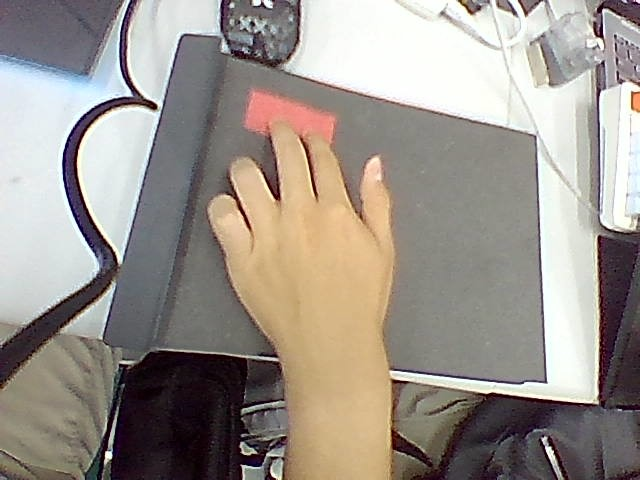card: (245, 89, 336, 141)
